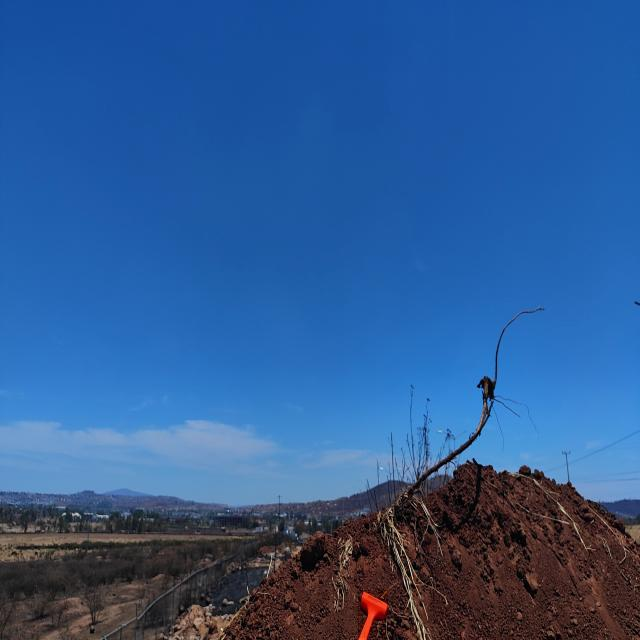Orange_hammer: (358, 590, 388, 638)
rock: (298, 522, 330, 574)
